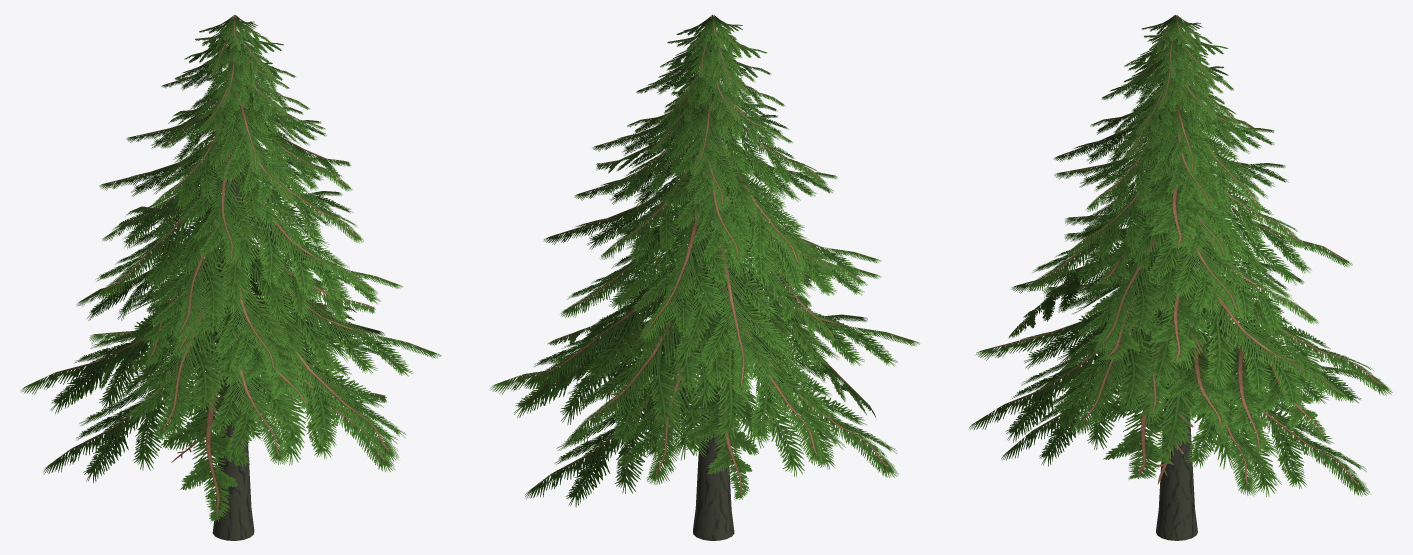
Rendered from pine.glb.
3 views of the same model, side by side, from view 1: azimuth 30°, elevation 25°; view 2: azimuth 150°, elevation 25°; view 3: azimuth 270°, elevation 25° (orthographic).
Visible parts, largest first — view 1: Branches_M_TreeAtlas_0, Trunk_Trunk_0; view 2: Branches_M_TreeAtlas_0, Trunk_Trunk_0; view 3: Branches_M_TreeAtlas_0, Trunk_Trunk_0.
Part boxes in pixels (x1,y1,x2,y2): Branches_M_TreeAtlas_0: (20, 14, 441, 523); Trunk_Trunk_0: (212, 40, 254, 540); Branches_M_TreeAtlas_0: (489, 15, 919, 507); Trunk_Trunk_0: (693, 43, 734, 540); Branches_M_TreeAtlas_0: (969, 15, 1392, 496); Trunk_Trunk_0: (1156, 47, 1197, 540).
Size of the model in its own units: 58.35 by 75 by 57.27.
2 materials, 2 textured.
